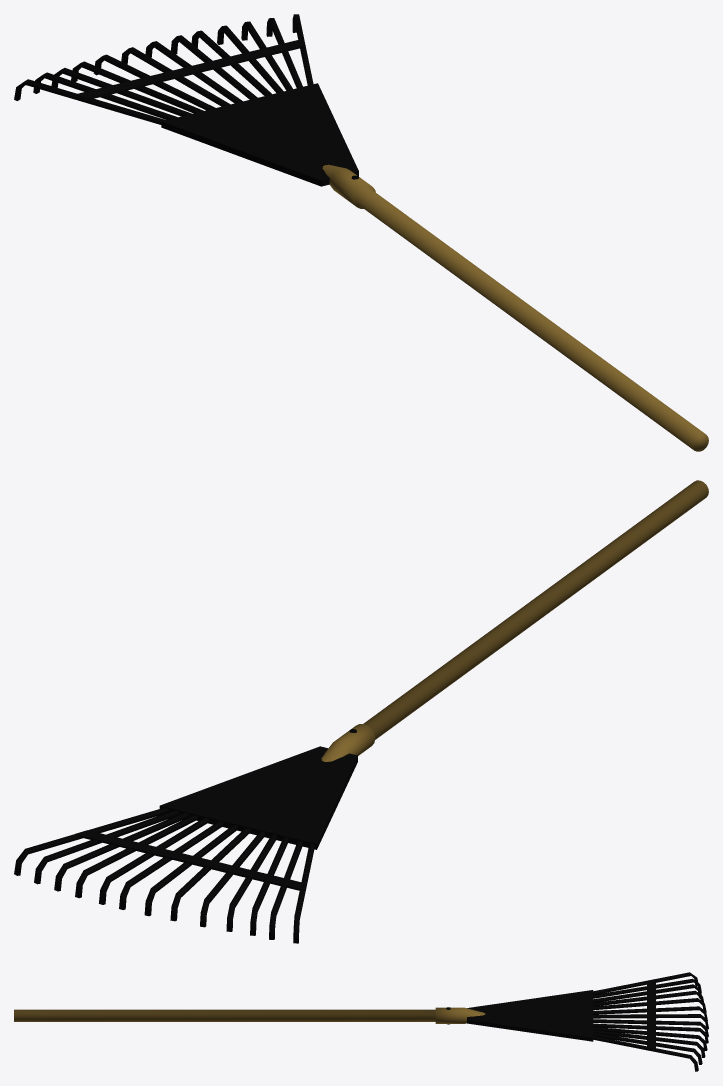
The model's file is tool3.fbx.
3 views of the same model, one above another, from view 1: azimuth 30°, elevation 25°; view 2: azimuth 150°, elevation 25°; view 3: azimuth 270°, elevation 25° (orthographic). The views are drawn at different scales.
Parts seen in each view (by area): view 1: Rastelo_01_Circle.018; view 2: Rastelo_01_Circle.018; view 3: Rastelo_01_Circle.018.
Boxes of the visible parts, box(x1,y1,x2,y2) form: Rastelo_01_Circle.018: box(14, 14, 708, 451); Rastelo_01_Circle.018: box(14, 480, 708, 943); Rastelo_01_Circle.018: box(14, 972, 708, 1071).
Bounding box in the file's own units: 978 × 111 × 3296.
